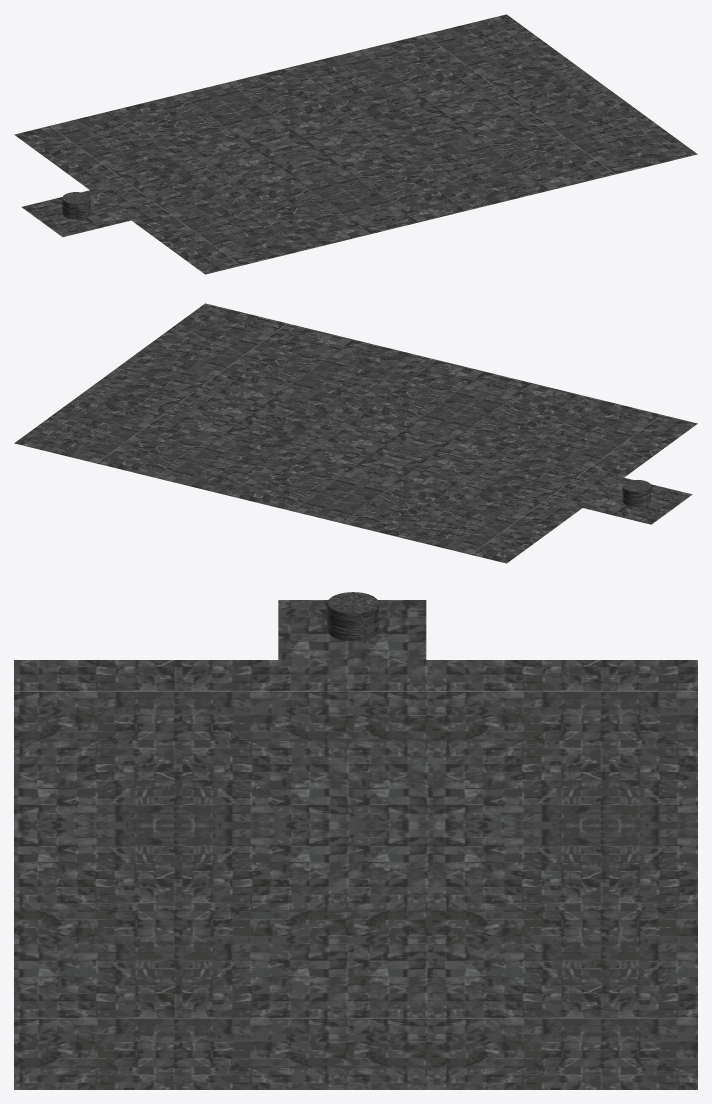
File: justceiling.fbx
3 views of the same model, one above another, from view 1: azimuth 30°, elevation 25°; view 2: azimuth 150°, elevation 25°; view 3: azimuth 270°, elevation 25° (orthographic). The views are drawn at different scales.
Parts seen in each view (by area): view 1: polySurface13; view 2: polySurface13; view 3: polySurface13.
Boxes of the visible parts, x1,y1,x2,y2 form: polySurface13: (14, 14, 697, 274); polySurface13: (14, 303, 697, 563); polySurface13: (14, 592, 697, 1089).
Bounding box in the file's own units: 110 × 2.88 × 64.83.
